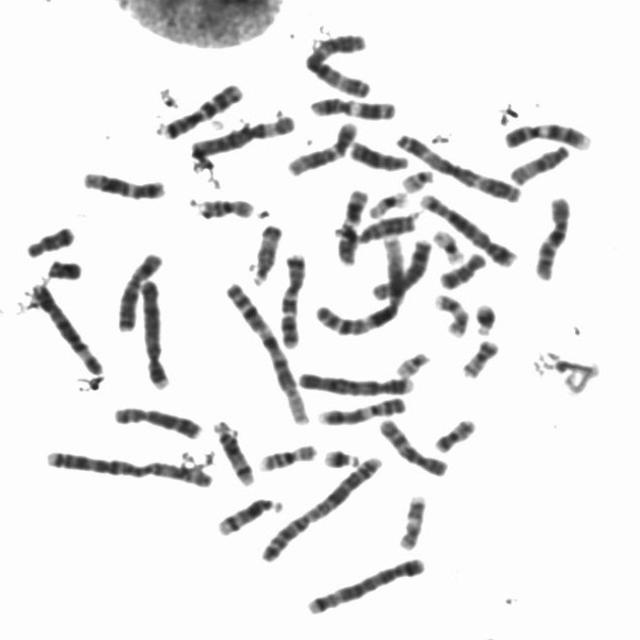A1: (218, 274, 312, 426), (309, 228, 412, 338)
A2: (253, 446, 386, 564), (38, 441, 218, 490)
A3: (387, 124, 524, 204), (297, 25, 373, 99)
B4: (132, 272, 173, 391), (290, 364, 418, 396)
B5: (413, 185, 520, 268), (300, 550, 428, 616)
C10: (372, 411, 452, 478), (526, 187, 575, 282)
C11: (329, 182, 371, 265), (303, 90, 399, 121)
C12: (279, 114, 361, 178), (74, 163, 168, 201)
C6: (23, 276, 106, 376), (184, 107, 299, 161)
C7: (151, 74, 246, 140), (272, 246, 309, 350)
C8: (364, 230, 434, 300), (106, 398, 205, 441)
C9: (312, 388, 410, 427), (496, 114, 594, 152)
D13: (340, 204, 422, 244), (342, 133, 410, 172)
D14: (206, 414, 258, 487), (210, 490, 286, 537)
D15: (502, 136, 573, 187), (245, 216, 284, 287)
E16: (252, 436, 320, 473), (189, 190, 257, 221)
E17: (390, 487, 429, 552), (428, 286, 471, 338)
E18: (430, 244, 490, 290), (18, 218, 77, 259)
F19: (425, 221, 467, 265), (362, 183, 411, 218)
F20: (454, 330, 502, 380), (426, 410, 479, 454)
G21: (315, 441, 363, 470), (467, 295, 499, 337)
G22: (389, 344, 433, 378), (395, 162, 437, 192)
X: (108, 244, 166, 333)
Y: (41, 253, 84, 281)
